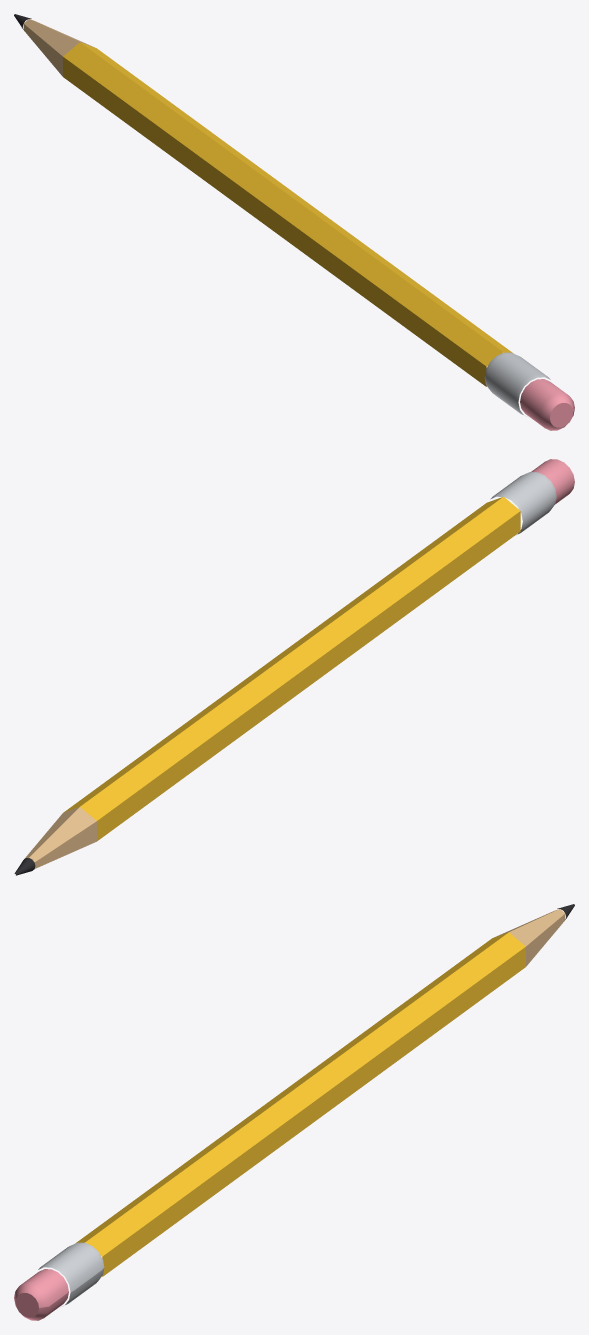
Rendered from pencil.glb.
The picture shows the model from 3 angles, top to bottom: view 1: azimuth 30°, elevation 25°; view 2: azimuth 150°, elevation 25°; view 3: azimuth 330°, elevation 25°; orthographic projection.
Parts seen in each view (by area): view 1: Pencil; view 2: Pencil; view 3: Pencil.
Boxes of the visible parts, box(x1,y1,x2,y2) form: Pencil: box(14, 14, 574, 430); Pencil: box(14, 459, 574, 875); Pencil: box(14, 904, 574, 1320).
Bounding box in the file's own units: 0.00816 × 0.00816 × 0.1935.
